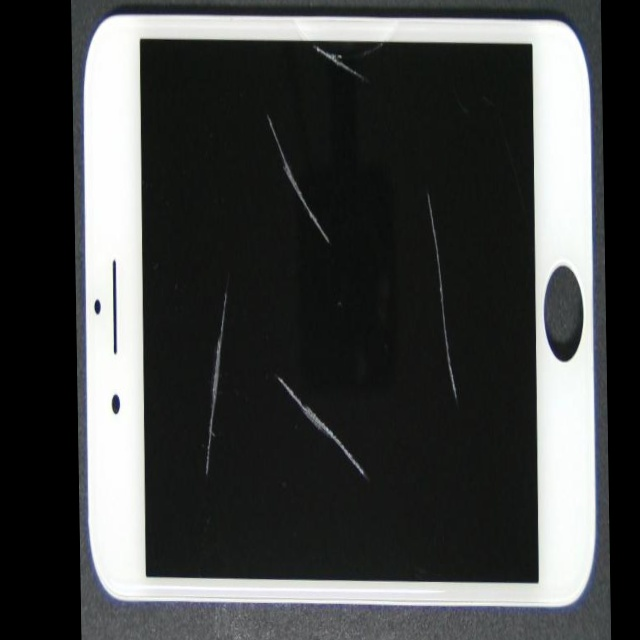scratch: (146, 0, 388, 279), (160, 6, 285, 533)
